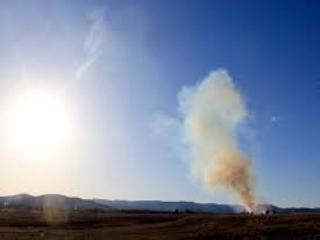smoke: (185, 70, 269, 211)
